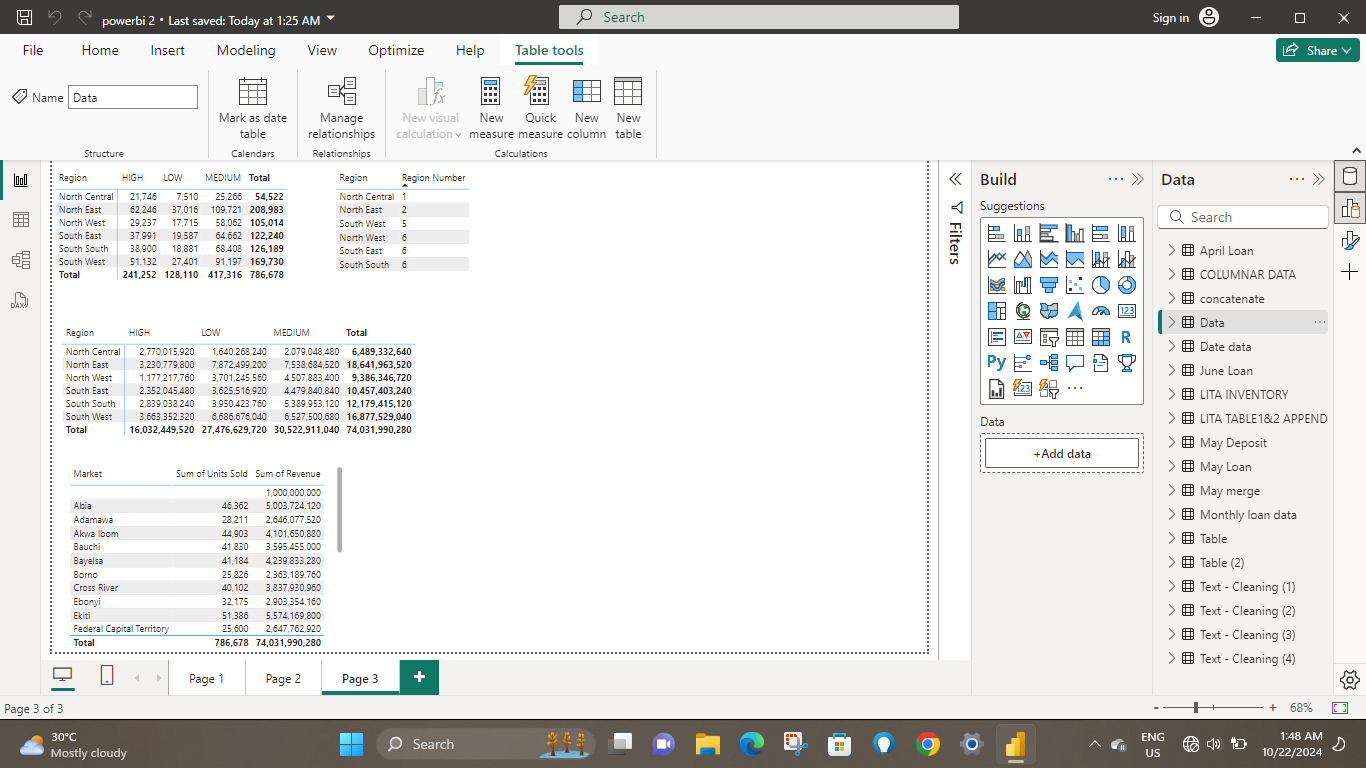

What the dashboard file says about the page in this screenshot:
{"tool":"powerbi","page":{"name":"Page 3","canvas":[1280,720],"ordinal":2},"visuals":[{"type":"pivotTable","fields":{"Rows":["Data.Region"],"Values":["Sum(Data.Units Sold )"],"Columns":["Data.Transaction category"]},"box":[0,10.2,358.5,174.1],"z":0},{"type":"pivotTable","fields":{"Rows":["Data.Region"],"Values":["Sum(Data.Revenue )"],"Columns":["Data.Transaction category"]},"box":[10.2,237.1,542.9,187.3],"z":1000},{"type":"tableEx","fields":{"Values":["Data.Region","Data.Region Number"]},"box":[409.8,10.2,253.2,174.1],"z":2000},{"type":"tableEx","fields":{"Values":["Data.Market","Sum(Data.Units Sold )","Sum(Data.Revenue )"]},"box":[20.5,443.4,409.8,276.6],"z":3000}]}

Visuals, with their boxes on the page's 1280x720 design canvas (x1, y1, x2, y2). These are canvas units, not pixel positions in the 1366x768 screenshot, which may show the page scaled, cropped or inside an application window:
pivotTable - Data.Region x Sum(Data.Units Sold ): 0,10,358,184
pivotTable - Data.Region x Sum(Data.Revenue ): 10,237,553,424
tableEx - Data.Region x Data.Region Number: 410,10,663,184
tableEx - Data.Market x Sum(Data.Units Sold ): 20,443,430,720
